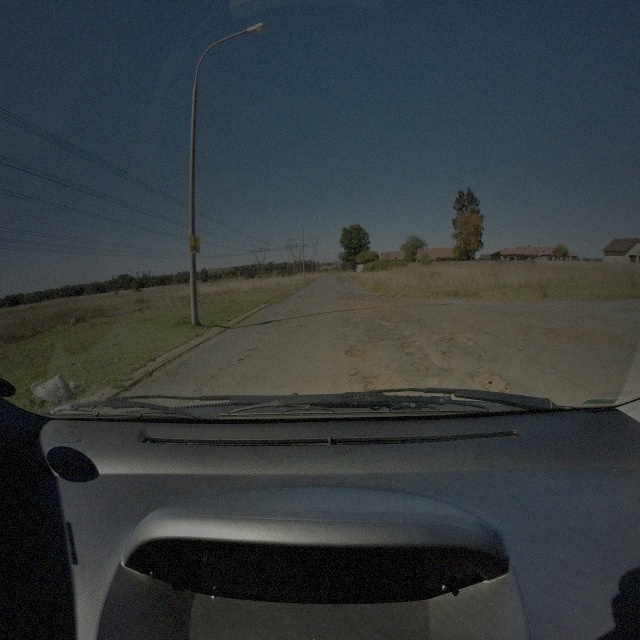pothole: (471, 368, 510, 394), (446, 331, 474, 346), (343, 348, 368, 362), (278, 306, 302, 318), (362, 380, 382, 394), (380, 309, 405, 320), (411, 359, 427, 373), (371, 330, 387, 342), (443, 349, 457, 359), (403, 341, 414, 350), (246, 344, 258, 352), (297, 321, 308, 328)
